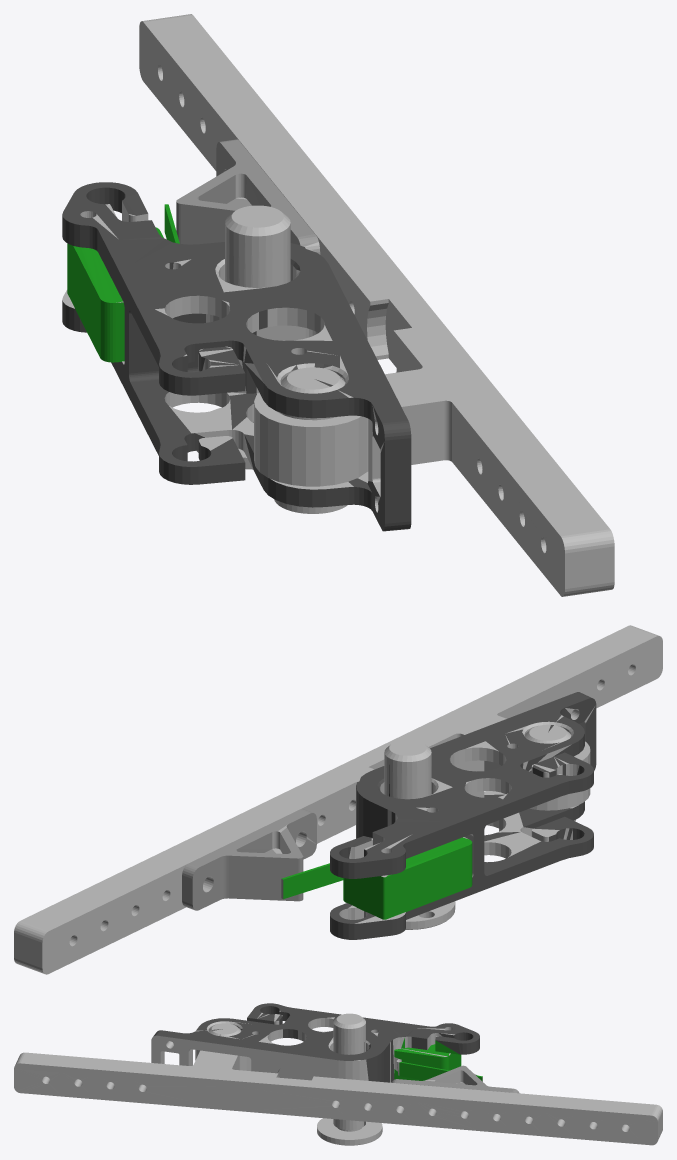
File: color_foot_L.dae
3 renders of one model, top to bottom at view 1: azimuth 30°, elevation 25°; view 2: azimuth 150°, elevation 25°; view 3: azimuth 270°, elevation 25°, orthographic. The views are drawn at different scales.
Visible parts, largest first — view 1: updated_foot_L_dae; view 2: updated_foot_L_dae; view 3: updated_foot_L_dae.
Part boxes in pixels (bbox=[...]): updated_foot_L_dae: bbox=[62, 14, 614, 596]; updated_foot_L_dae: bbox=[14, 625, 662, 974]; updated_foot_L_dae: bbox=[14, 1003, 662, 1145].
Bounding box in the file's own units: 0.0728 × 0.1978 × 0.038.
